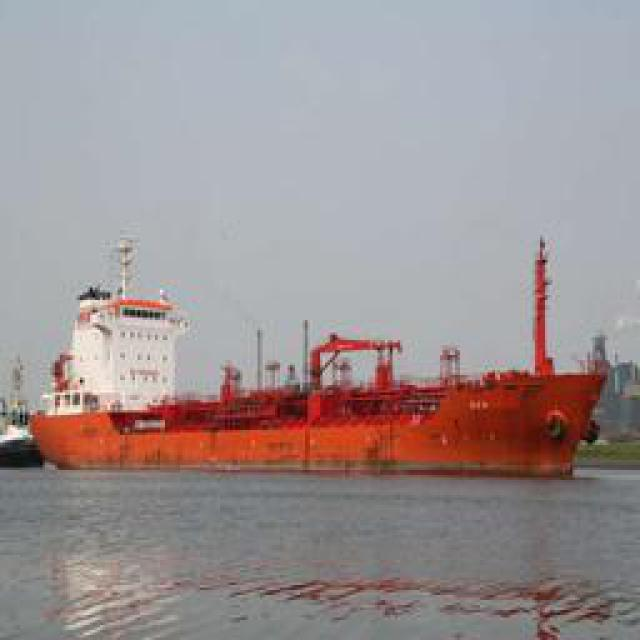Ship: (14, 274, 619, 479)
